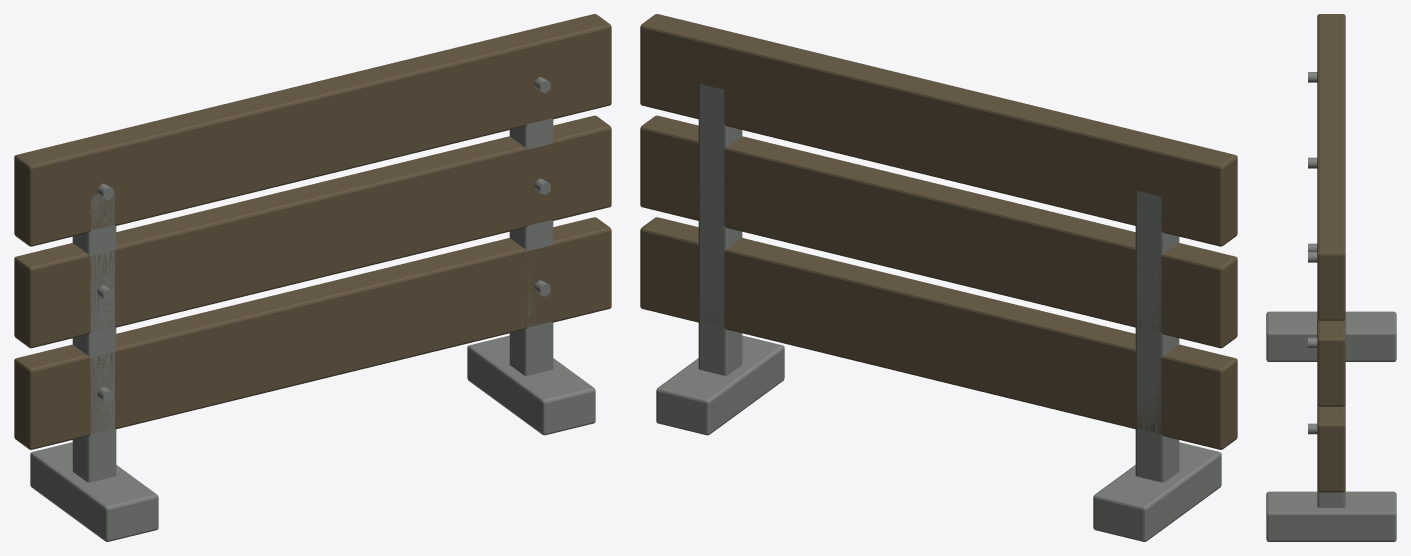
Rendered from noir-cover-panel.glb.
The picture shows the model from 3 angles, left to right: view 1: azimuth 30°, elevation 25°; view 2: azimuth 150°, elevation 25°; view 3: azimuth 270°, elevation 25°; orthographic projection. The views are drawn at different scales.
Parts seen in each view (by area): view 1: utility-pole-timber.001, fence-galvanized-steel.003; view 2: utility-pole-timber.001, fence-galvanized-steel.003; view 3: utility-pole-timber.001, fence-galvanized-steel.003.
Boxes of the visible parts, box(x1,y1,x2,y2) form: utility-pole-timber.001: box(14, 14, 611, 449); fence-galvanized-steel.003: box(30, 77, 595, 541); utility-pole-timber.001: box(640, 14, 1237, 449); fence-galvanized-steel.003: box(656, 84, 1221, 541); utility-pole-timber.001: box(1317, 14, 1345, 492); fence-galvanized-steel.003: box(1266, 72, 1396, 541).
Bounding box in the file's own units: 2.4 × 1.44 × 0.55.
